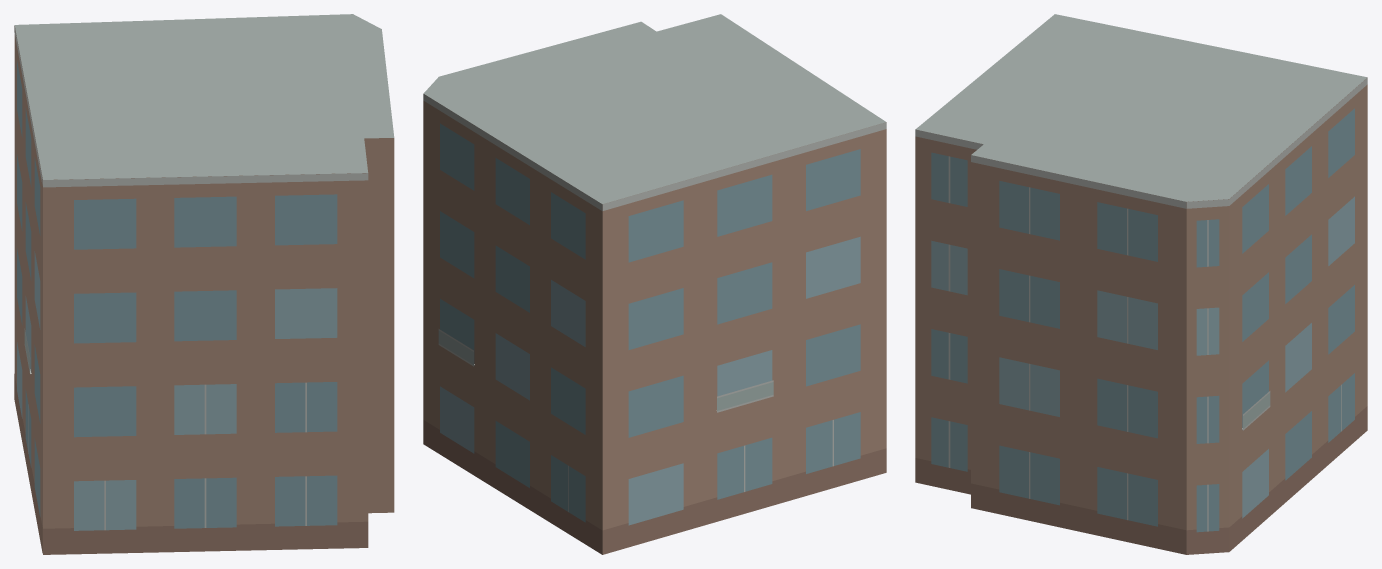
Rendered from survey-upis-32655778.glb.
The picture shows the model from 3 angles, left to right: view 1: azimuth 30°, elevation 25°; view 2: azimuth 150°, elevation 25°; view 3: azimuth 270°, elevation 25°; orthographic projection. The views are drawn at different scales.
Parts seen in each view (by area): view 1: survey-upis-32655778.tmp; view 2: survey-upis-32655778.tmp; view 3: survey-upis-32655778.tmp.
Boxes of the visible parts, x1,y1,x2,y2 form: survey-upis-32655778.tmp: (14,14,394,554); survey-upis-32655778.tmp: (423,14,886,554); survey-upis-32655778.tmp: (915,14,1367,554).
Bounding box in the file's own units: 14.08 × 12.33 × 14.33.
